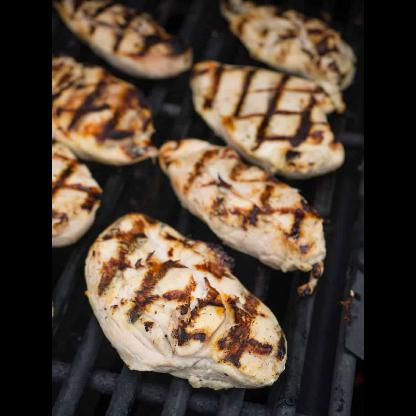grilled chicken breast: (82, 212, 288, 390), (158, 138, 326, 274), (190, 60, 346, 180), (219, 0, 356, 86), (50, 53, 154, 165), (52, 0, 190, 77), (51, 140, 101, 246)
